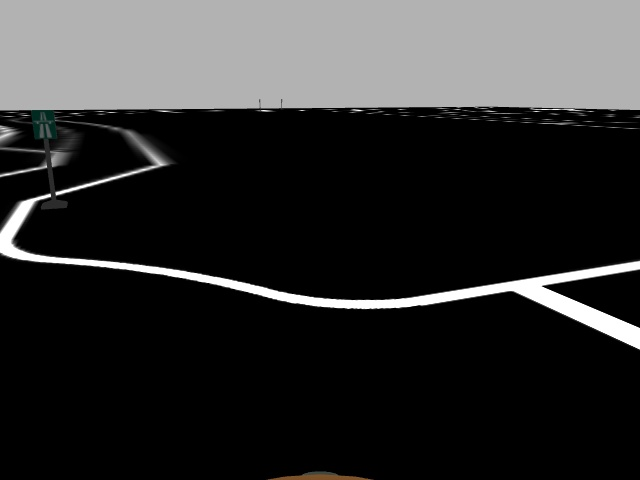enter_highway: (29, 109, 57, 141)
